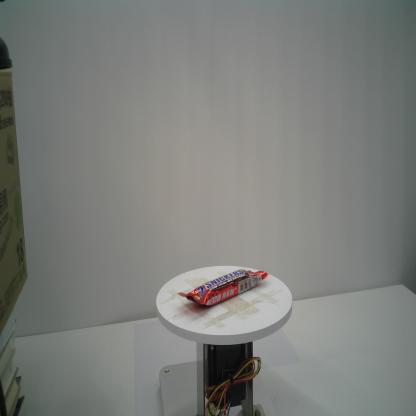Chocolate: (178, 269, 269, 307)
